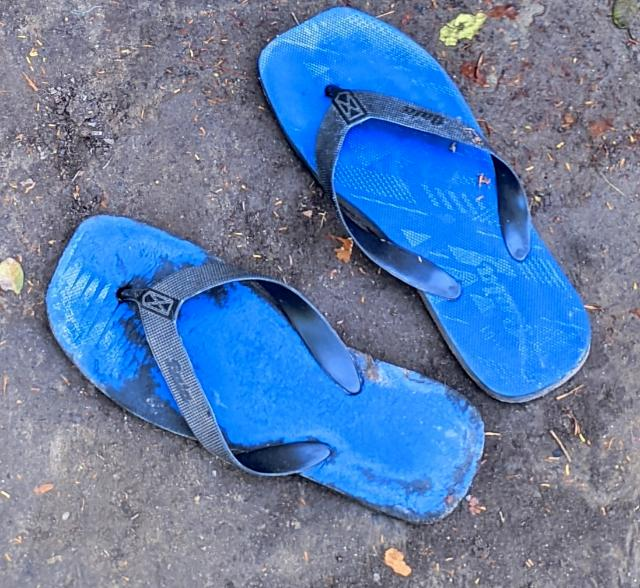sandal: (223, 0, 631, 446), (16, 190, 510, 541)
